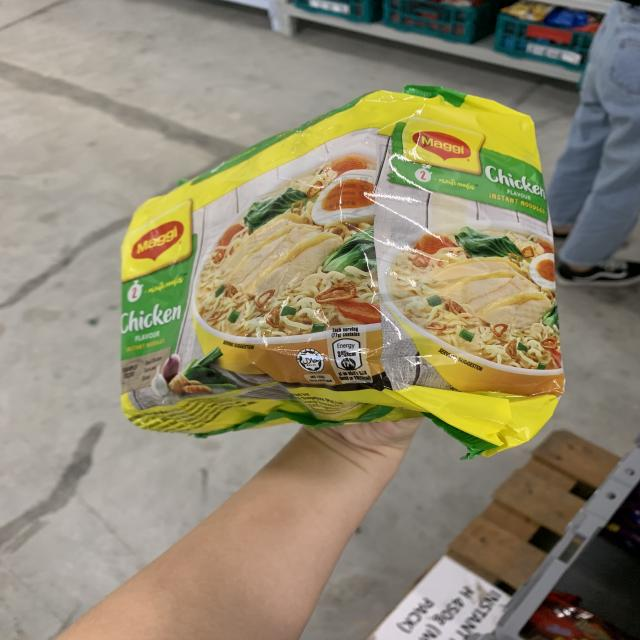object_name: (122, 134, 553, 418)
